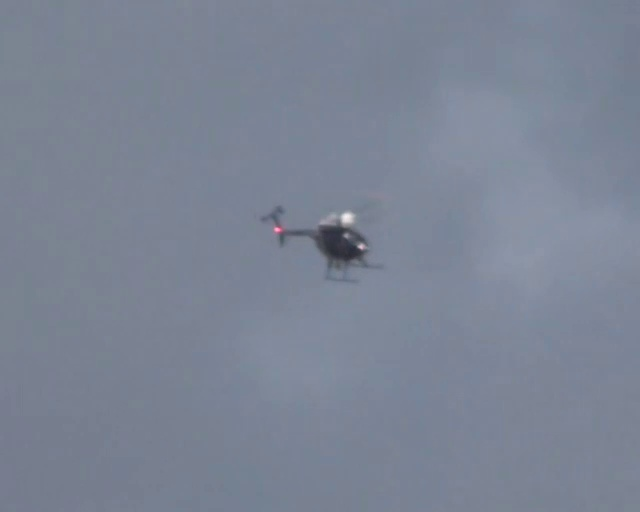HELICOPTER: (259, 197, 387, 284)
